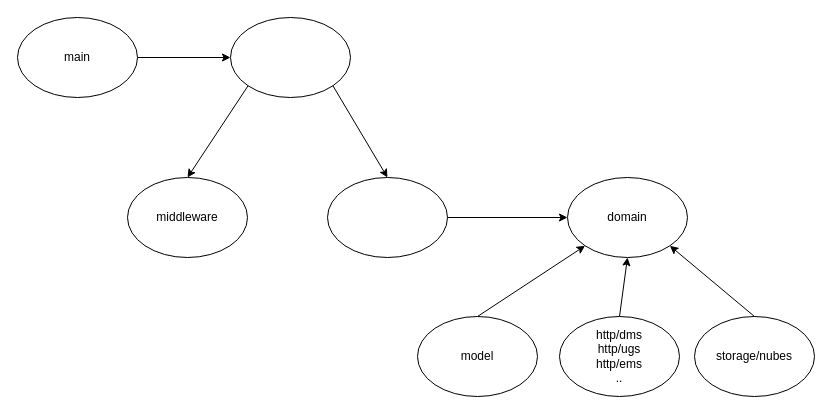
Image size: 832x414. Some labels were removed from this diagram. The shapes that lost their labels are listed below. From the top down, each one's box as (x1, y1, x2, y2) in pixels, then its label:
(230, 16, 350, 98): server
(326, 176, 448, 258): handler
